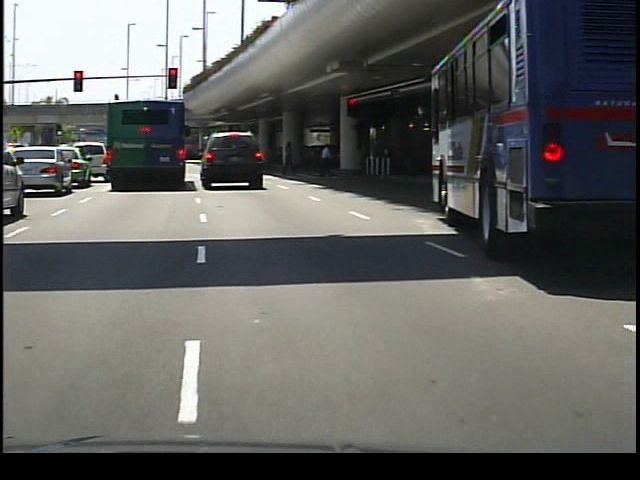person: (279, 138, 301, 179), (315, 141, 335, 178)
